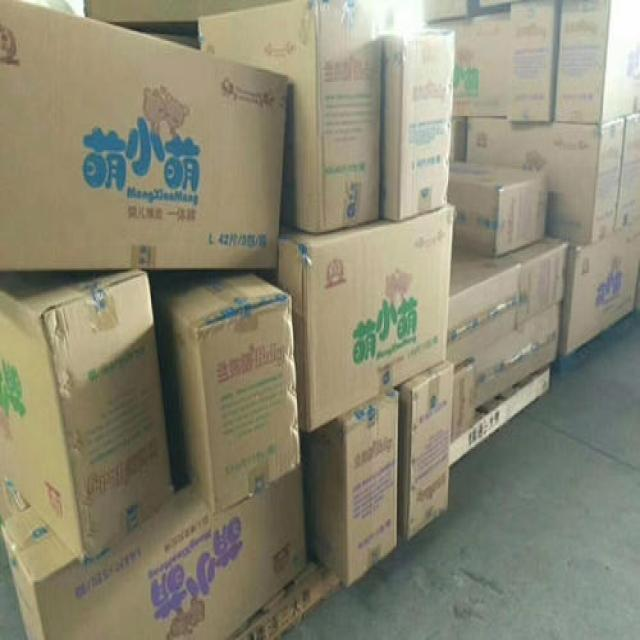box: (0, 0, 290, 271), (0, 458, 307, 638), (1, 271, 175, 563), (249, 202, 455, 433), (197, 1, 382, 233), (148, 269, 300, 515), (465, 116, 625, 243), (298, 390, 399, 587), (380, 29, 456, 221), (558, 222, 639, 357), (394, 361, 455, 538), (555, 1, 636, 126), (446, 159, 548, 257), (470, 303, 561, 409), (422, 13, 509, 117), (446, 246, 520, 366), (508, 0, 562, 122), (499, 235, 569, 329), (614, 111, 639, 232), (424, 0, 479, 21)
